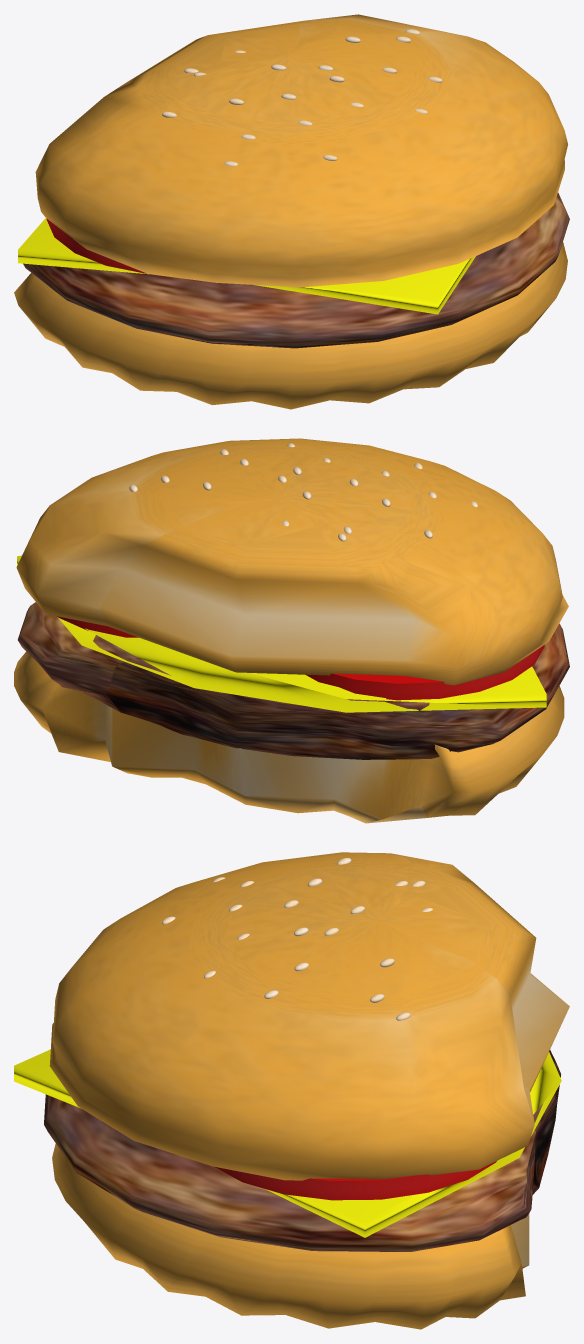
File: Burger.fbx
3 renders of one model, top to bottom at view 1: azimuth 30°, elevation 25°; view 2: azimuth 150°, elevation 25°; view 3: azimuth 270°, elevation 25°, orthographic. The views are drawn at different scales.
Visible parts, largest first — view 1: polySurface140; view 2: polySurface140; view 3: polySurface140.
Part boxes in pixels (x1,y1,x2,y2): polySurface140: (14,14,569,409); polySurface140: (14,438,569,823); polySurface140: (14,852,569,1329).
Size of the model in its own units: 6.34 by 2.95 by 4.89.
Materials: 5 (5 with a texture image).
